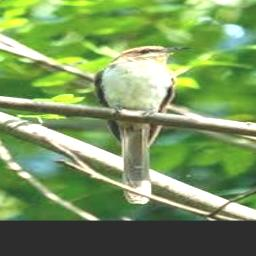Cuckoo: (94, 46, 193, 202)
